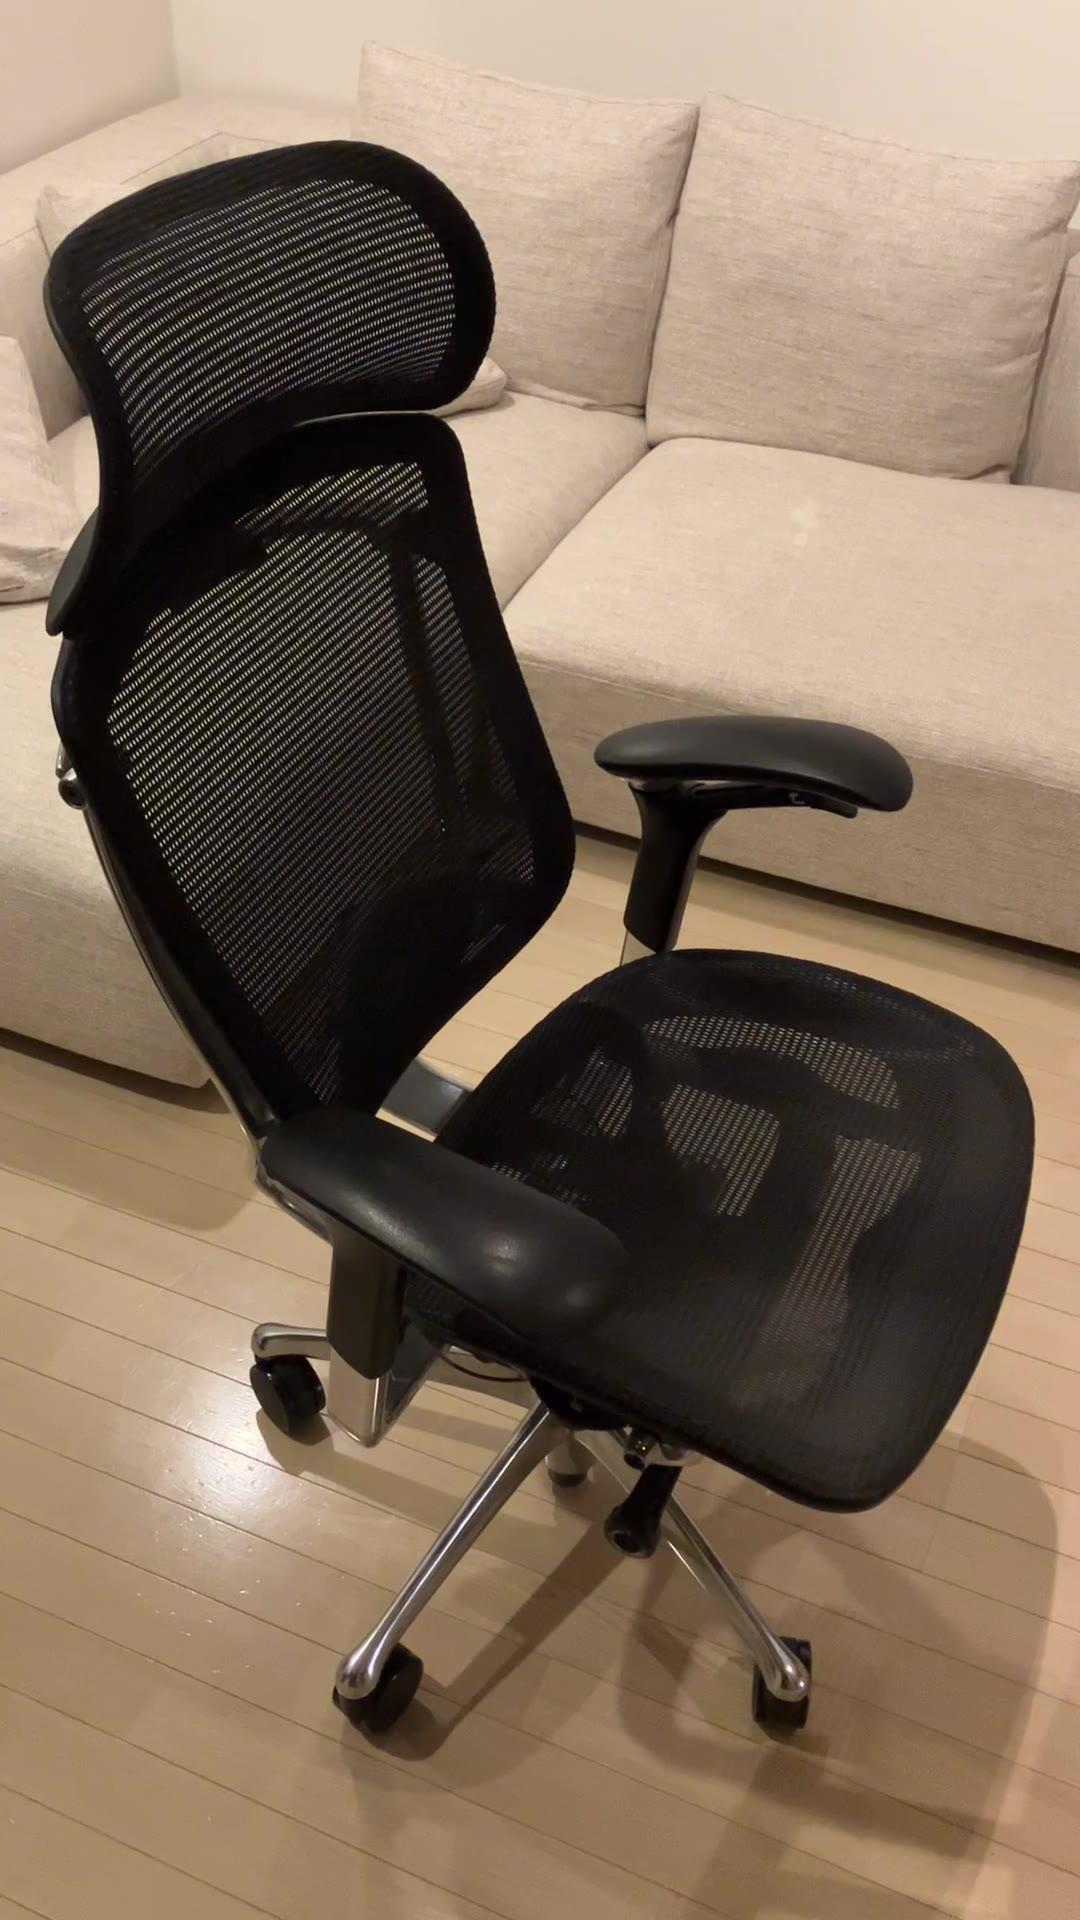okamura-contessa: (38, 124, 1033, 1758)
